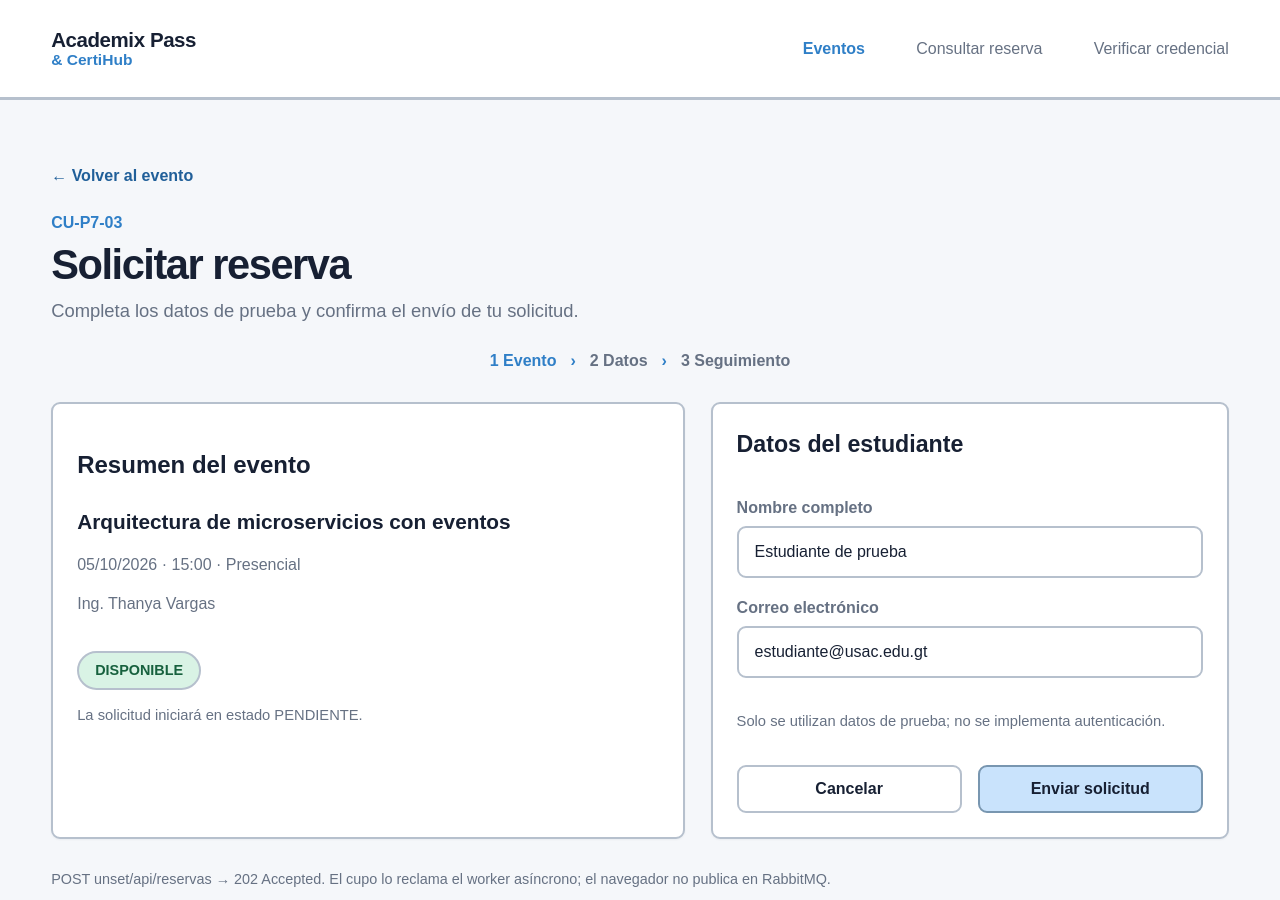
Solicitud de reserva › muestra el error si el productor no acepta la solicitud
The width and height of the screenshot is (1280, 900).
Expected: the heading "Datos del estudiante" is shown, [737,431,963,457]
Click the button "Enviar solicitud": point(1090, 789) [978,765,1203,813]
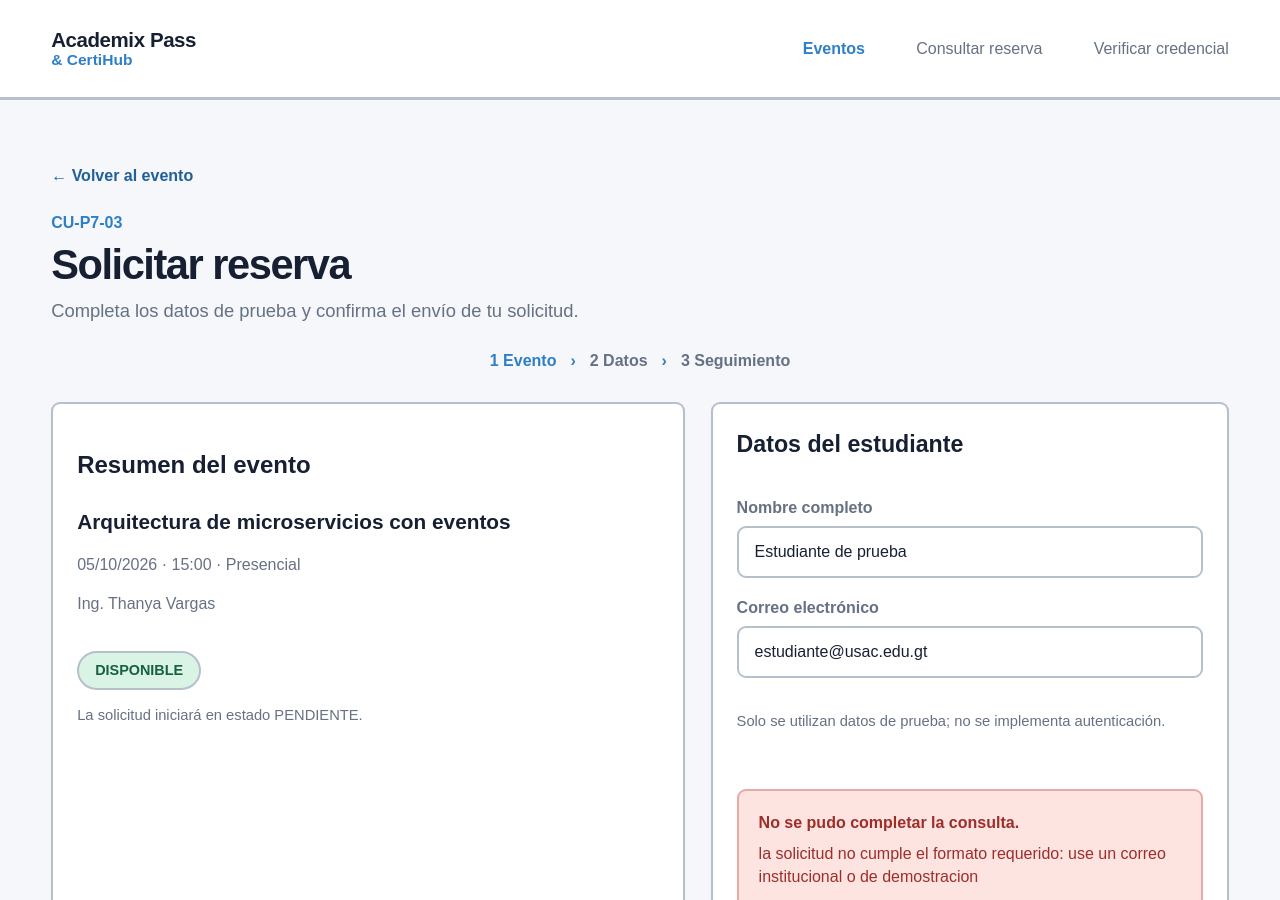
Now the text "use un correo institucional" is shown, box [759,845,1166,885]
